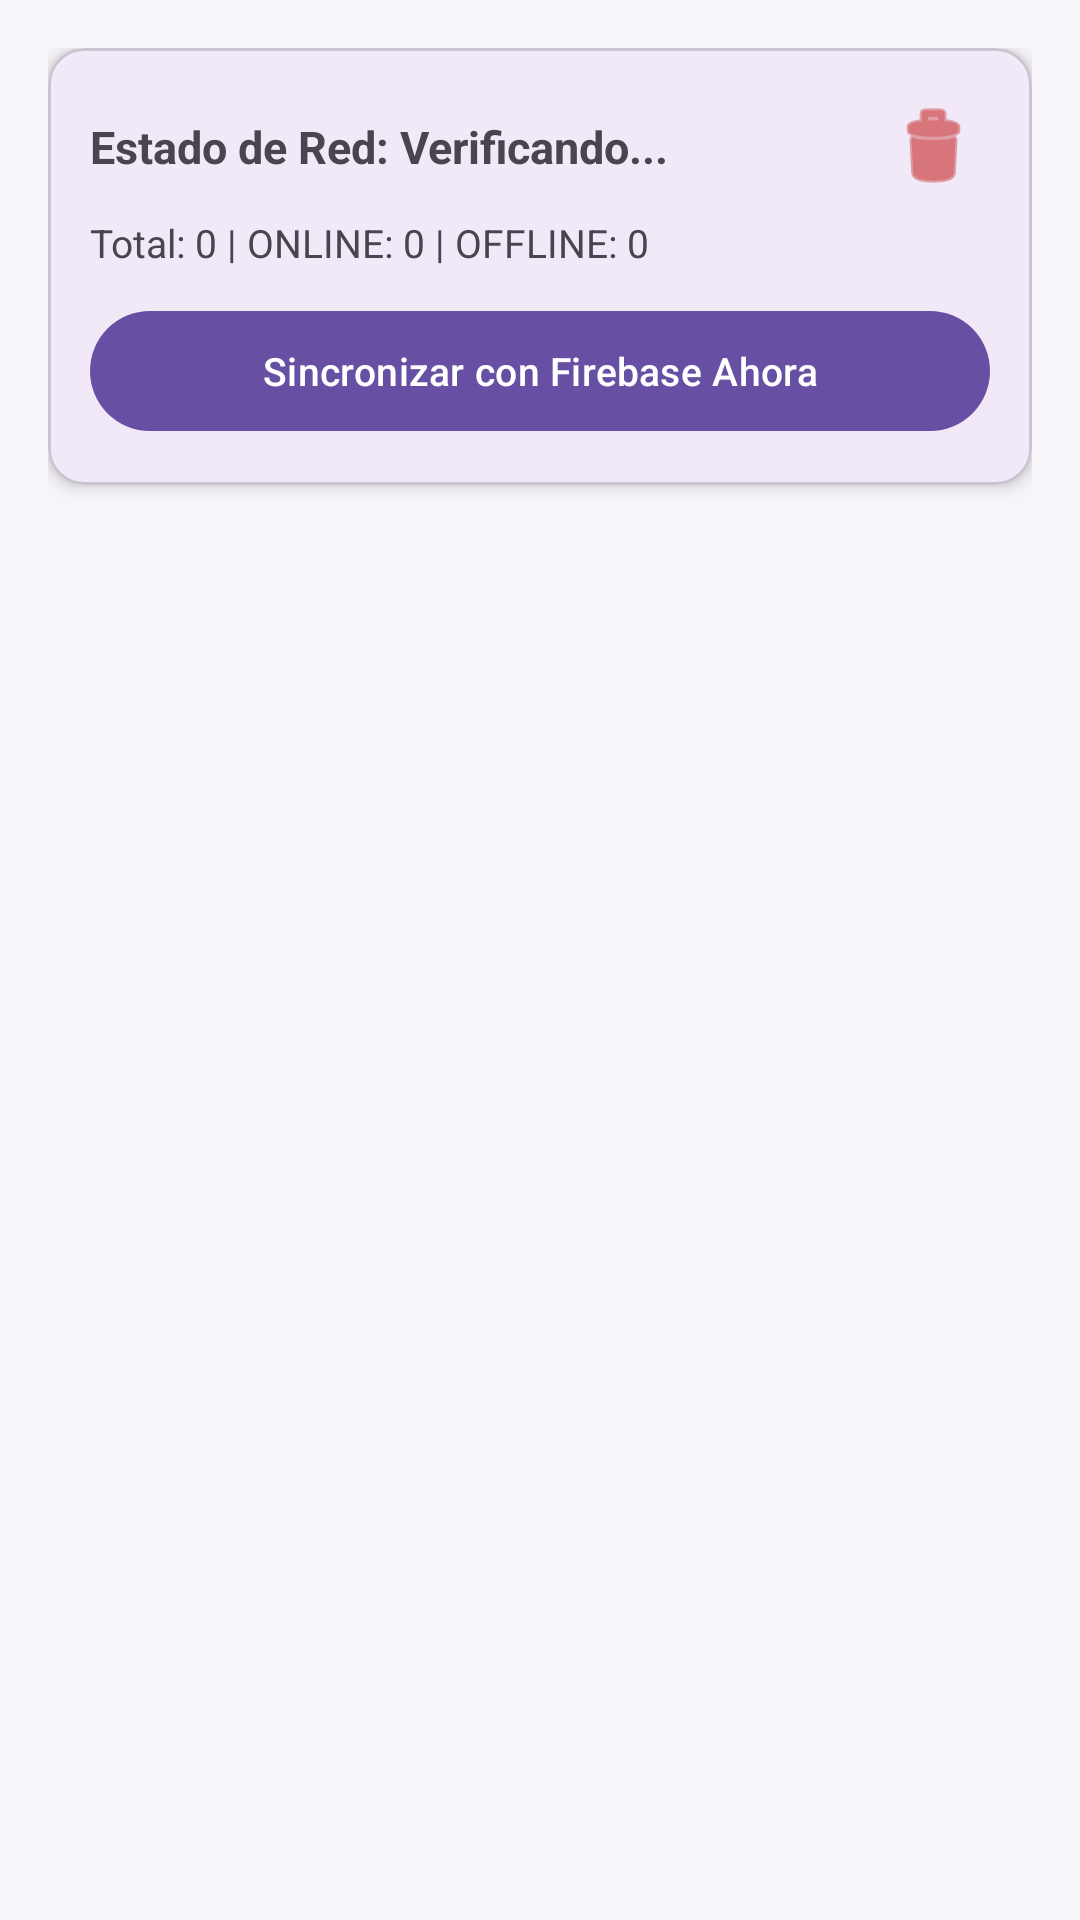

Icon click points for this 1080×1920 phone screenshot, format point (x, y):
Limpiar caché local: point (933, 145)
